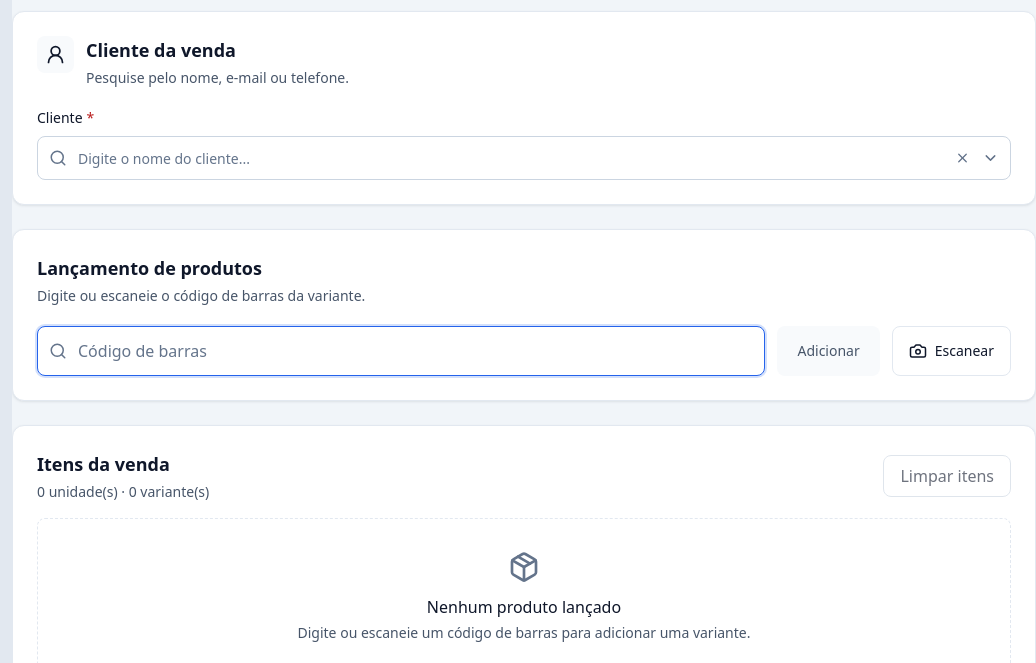
Test case: Itens da venda › no desktop mantém a tabela
Type "111" into the field named "Código de barras do produto" at (401,351), box [37,326,766,376]
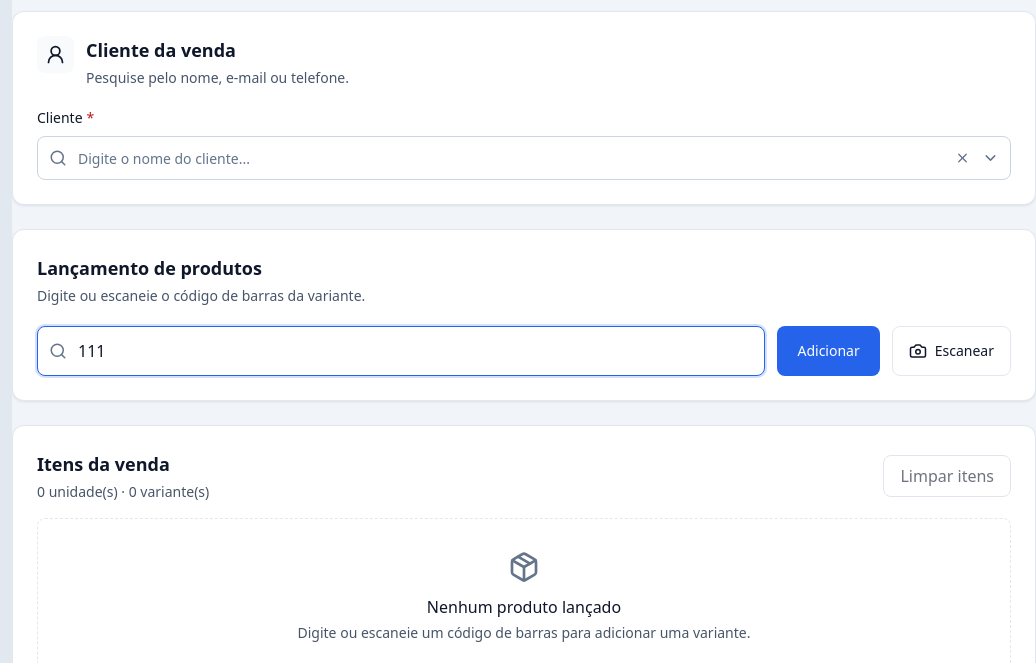
Click the button "Adicionar" at (829,351), box [778,326,880,376]
(page scrolled)
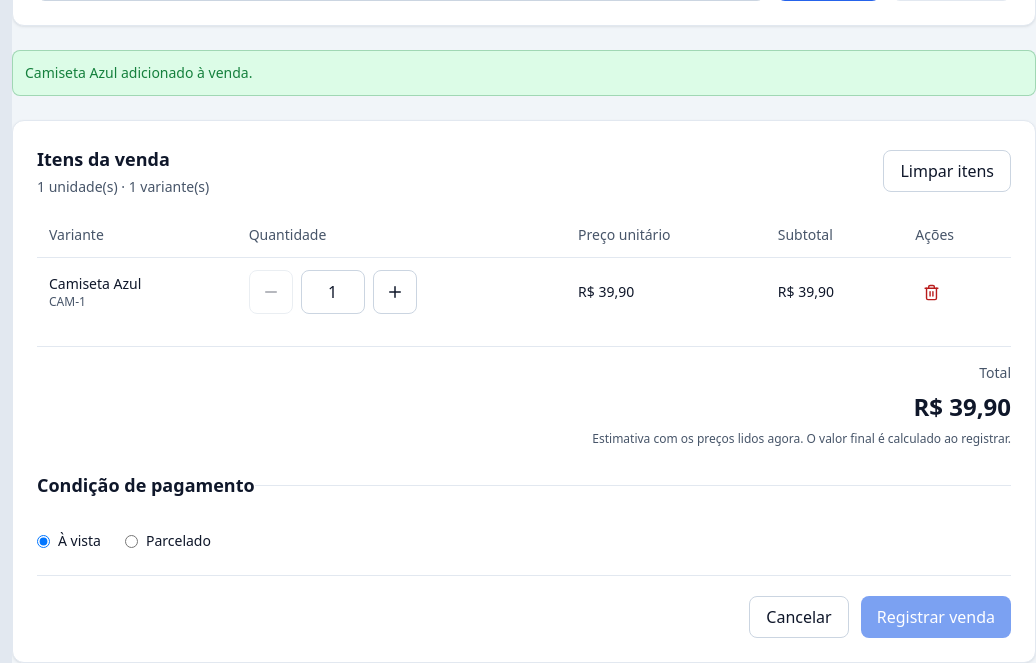
Expected: the text "CAM-1" is shown, [49,293,86,310]
Expected: the table is shown, [37,213,1011,326]
